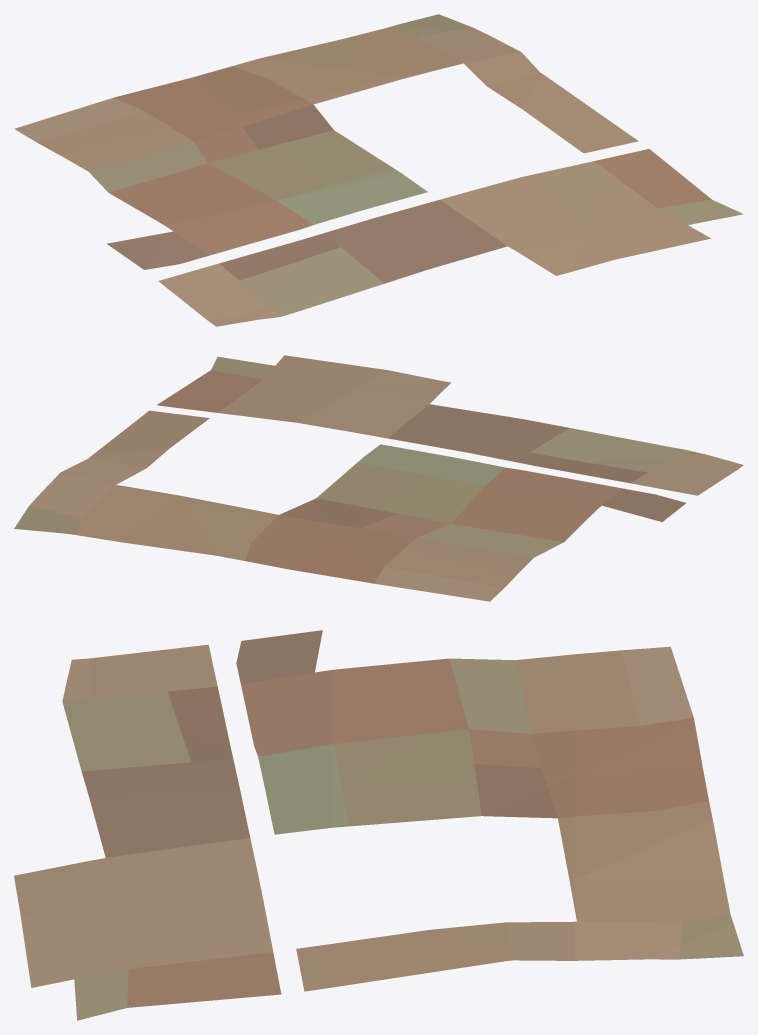
Rendered from farm_-25_-21_soil.glb.
3 views of the same model, one above another, from view 1: azimuth 30°, elevation 25°; view 2: azimuth 150°, elevation 25°; view 3: azimuth 270°, elevation 25° (orthographic). The views are drawn at different scales.
Visible parts, largest first — view 1: geometry_0; view 2: geometry_0; view 3: geometry_0.
Part boxes in pixels (x1,y1,x2,y2): geometry_0: (14, 14, 743, 326); geometry_0: (14, 355, 743, 601); geometry_0: (14, 630, 743, 1020).
Bounding box in the file's own units: 270 × 19.68 × 240.
